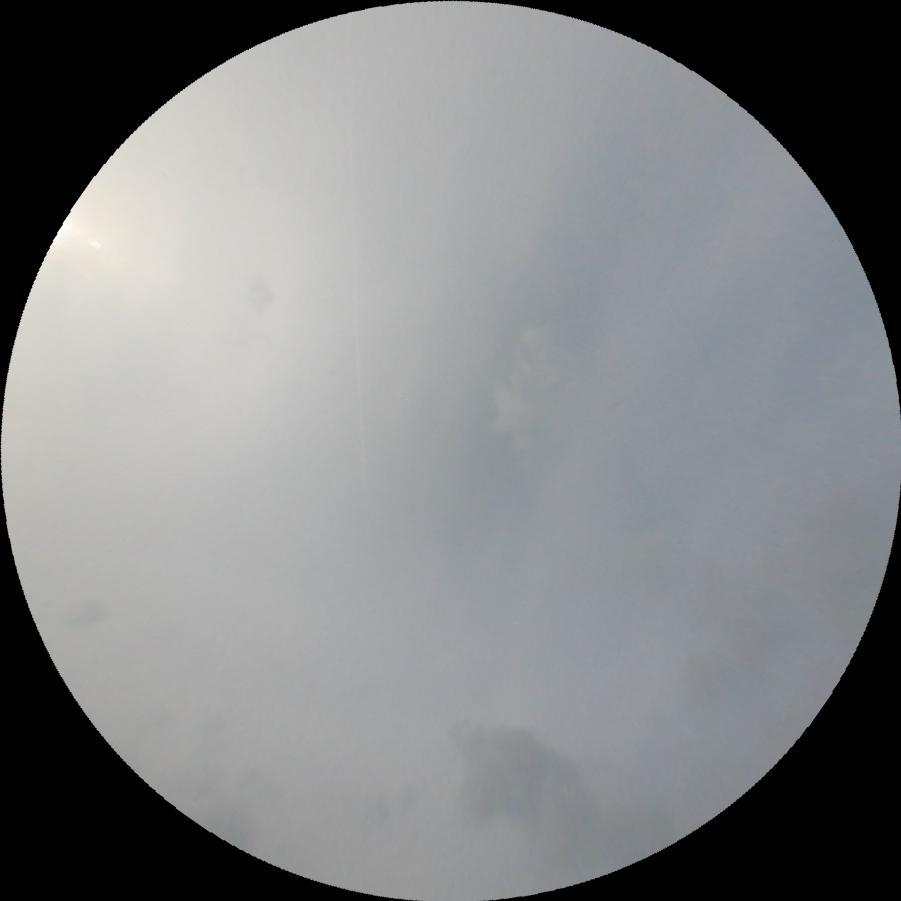contrail young: (345, 59, 369, 511)
